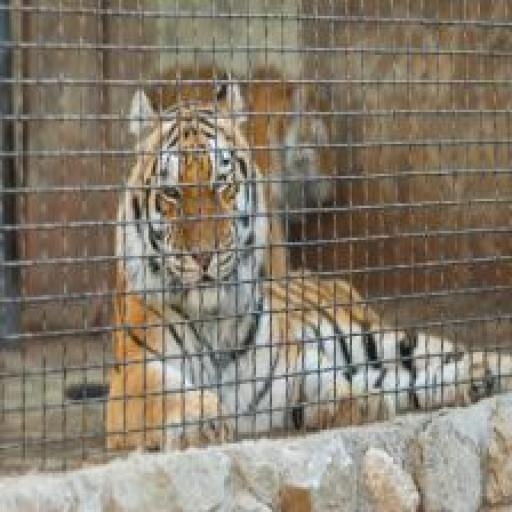Tiger: (78, 43, 459, 399)
